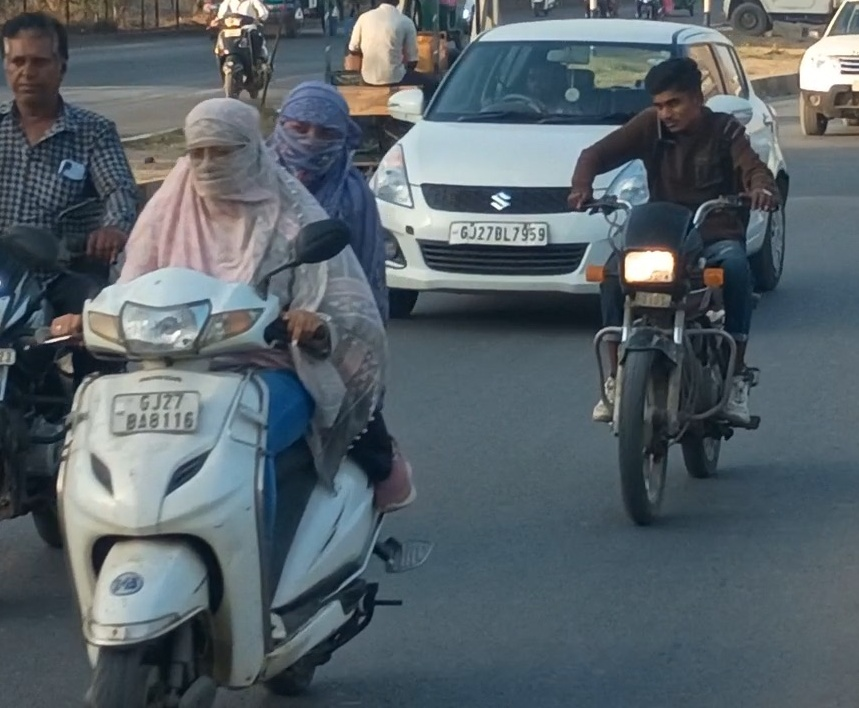BikeWithRider: (17, 76, 439, 708), (564, 52, 792, 534), (0, 8, 135, 554)
NoHelmet: (177, 91, 271, 210), (269, 76, 363, 195), (0, 10, 73, 106), (640, 53, 714, 142)
